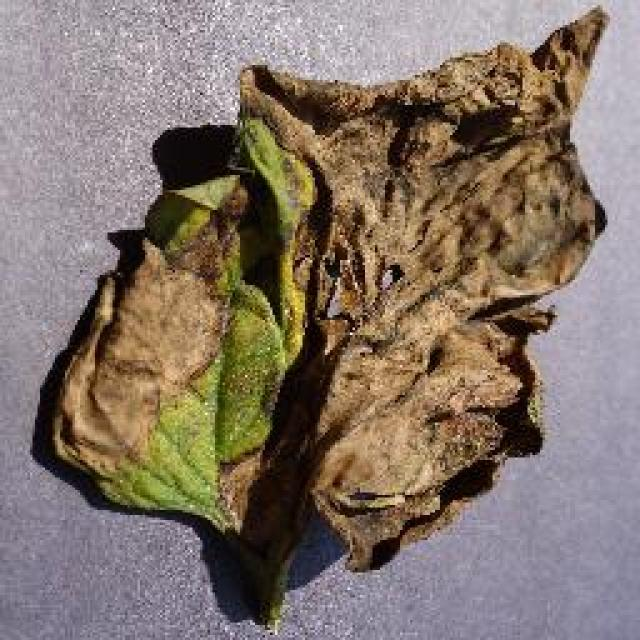Tomato___Late_blight: (48, 6, 613, 630)
